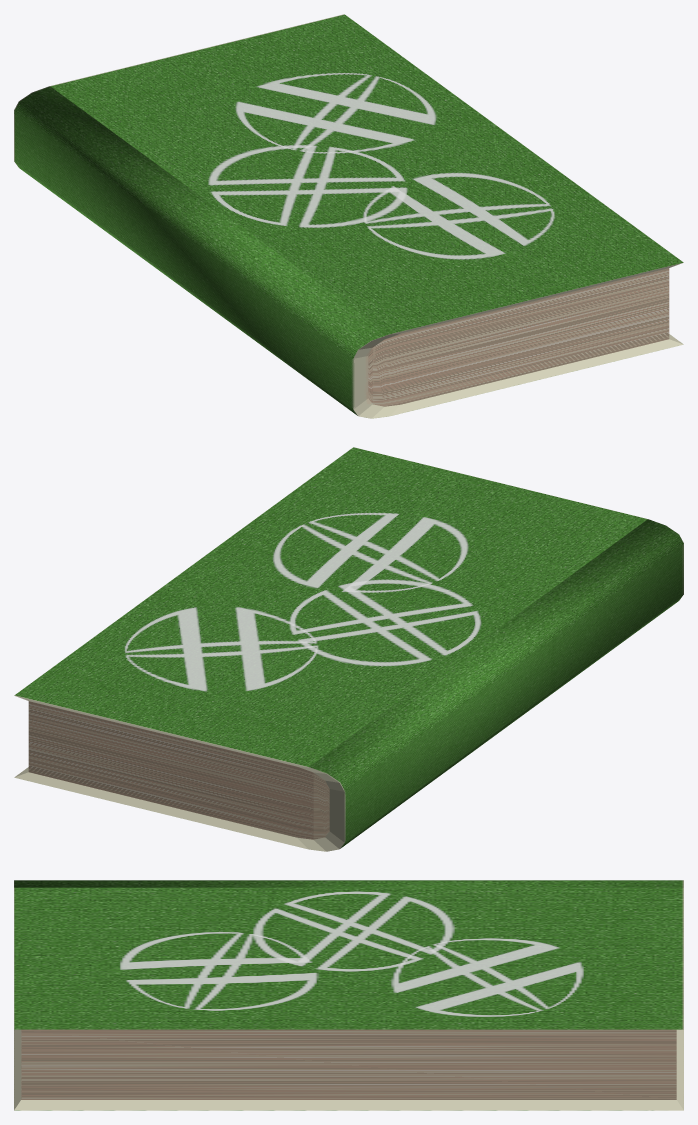
The model's file is Book.002.fbx.
The picture shows the model from 3 angles, top to bottom: view 1: azimuth 30°, elevation 25°; view 2: azimuth 150°, elevation 25°; view 3: azimuth 270°, elevation 25°; orthographic projection.
Parts seen in each view (by area): view 1: Book.002; view 2: Book.002; view 3: Book.002.
Boxes of the visible parts, bbox=[...] form: Book.002: bbox=[14, 14, 683, 418]; Book.002: bbox=[14, 447, 683, 851]; Book.002: bbox=[14, 880, 683, 1110].
Bounding box in the file's own units: 184 × 43.71 × 328.
Materials: 1 (1 with a texture image).
